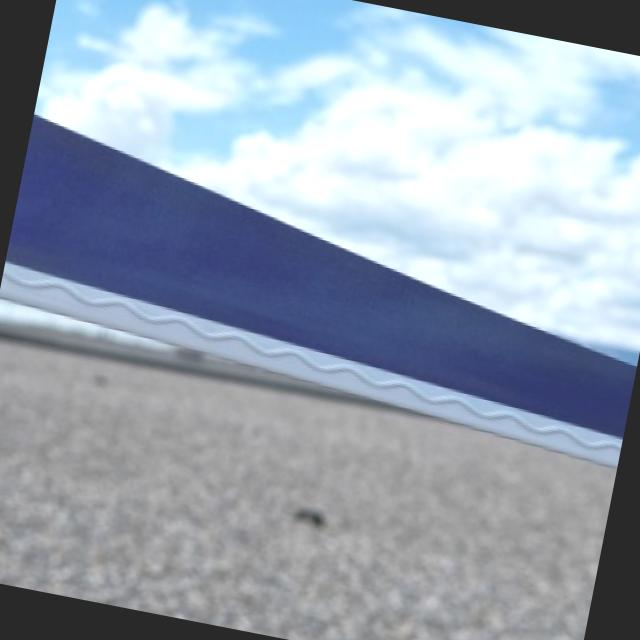healthy: (0, 114, 635, 462)
